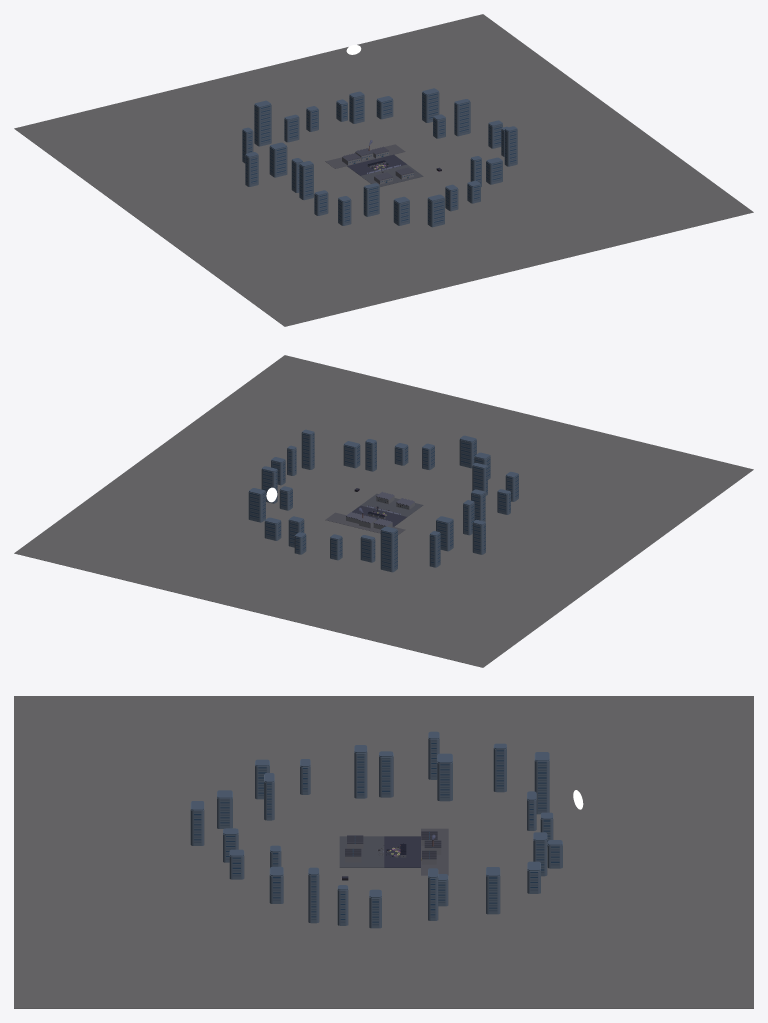
Rendered from cine_camp.glb.
The picture shows the model from 3 angles, top to bottom: view 1: azimuth 30°, elevation 25°; view 2: azimuth 150°, elevation 25°; view 3: azimuth 270°, elevation 25°; orthographic projection. The views are drawn at different scales.
Parts seen in each view (by area): view 1: ground_pave_d_fine, bg_far_far, bg_far_d_fine, bg_glass_d_fine, bg_far_d_far, ground_asphalt; view 2: ground_pave_d_fine, bg_far_far, bg_far_d_fine, bg_glass_d_fine, bg_far_d_far, ground_ash; view 3: ground_pave_d_fine, bg_far_far, bg_far_d_far, bg_glass_d_fine, bg_far_d_fine, ground_asphalt, ground_ash, bg_rubble_d, bg_roof_detail.
Part boxes in pixels (left/top/right/bottom): ground_pave_d_fine: left=14, top=14, right=753, bottom=326; bg_far_far: left=242, top=92, right=517, bottom=227; bg_far_d_fine: left=242, top=95, right=516, bottom=224; bg_glass_d_fine: left=242, top=93, right=516, bottom=222; bg_far_d_far: left=242, top=88, right=517, bottom=203; ground_asphalt: left=347, top=154, right=406, bottom=175; ground_pave_d_fine: left=14, top=355, right=753, bottom=667; bg_far_far: left=248, top=432, right=518, bottom=572; bg_far_d_fine: left=250, top=436, right=518, bottom=569; bg_glass_d_fine: left=250, top=434, right=518, bottom=567; bg_far_d_far: left=249, top=429, right=518, bottom=540; ground_ash: left=361, top=493, right=423, bottom=516; ground_pave_d_fine: left=14, top=696, right=753, bottom=1008; bg_far_far: left=190, top=733, right=562, bottom=928; bg_far_d_far: left=191, top=731, right=562, bottom=897; bg_glass_d_fine: left=194, top=743, right=559, bottom=922; bg_far_d_fine: left=194, top=740, right=559, bottom=925; ground_asphalt: left=384, top=836, right=420, bottom=867; ground_ash: left=339, top=836, right=384, bottom=867; bg_rubble_d: left=421, top=828, right=448, bottom=875; bg_roof_detail: left=345, top=831, right=441, bottom=859.
Bounding box in the file's own units: 800 × 106 × 800.
